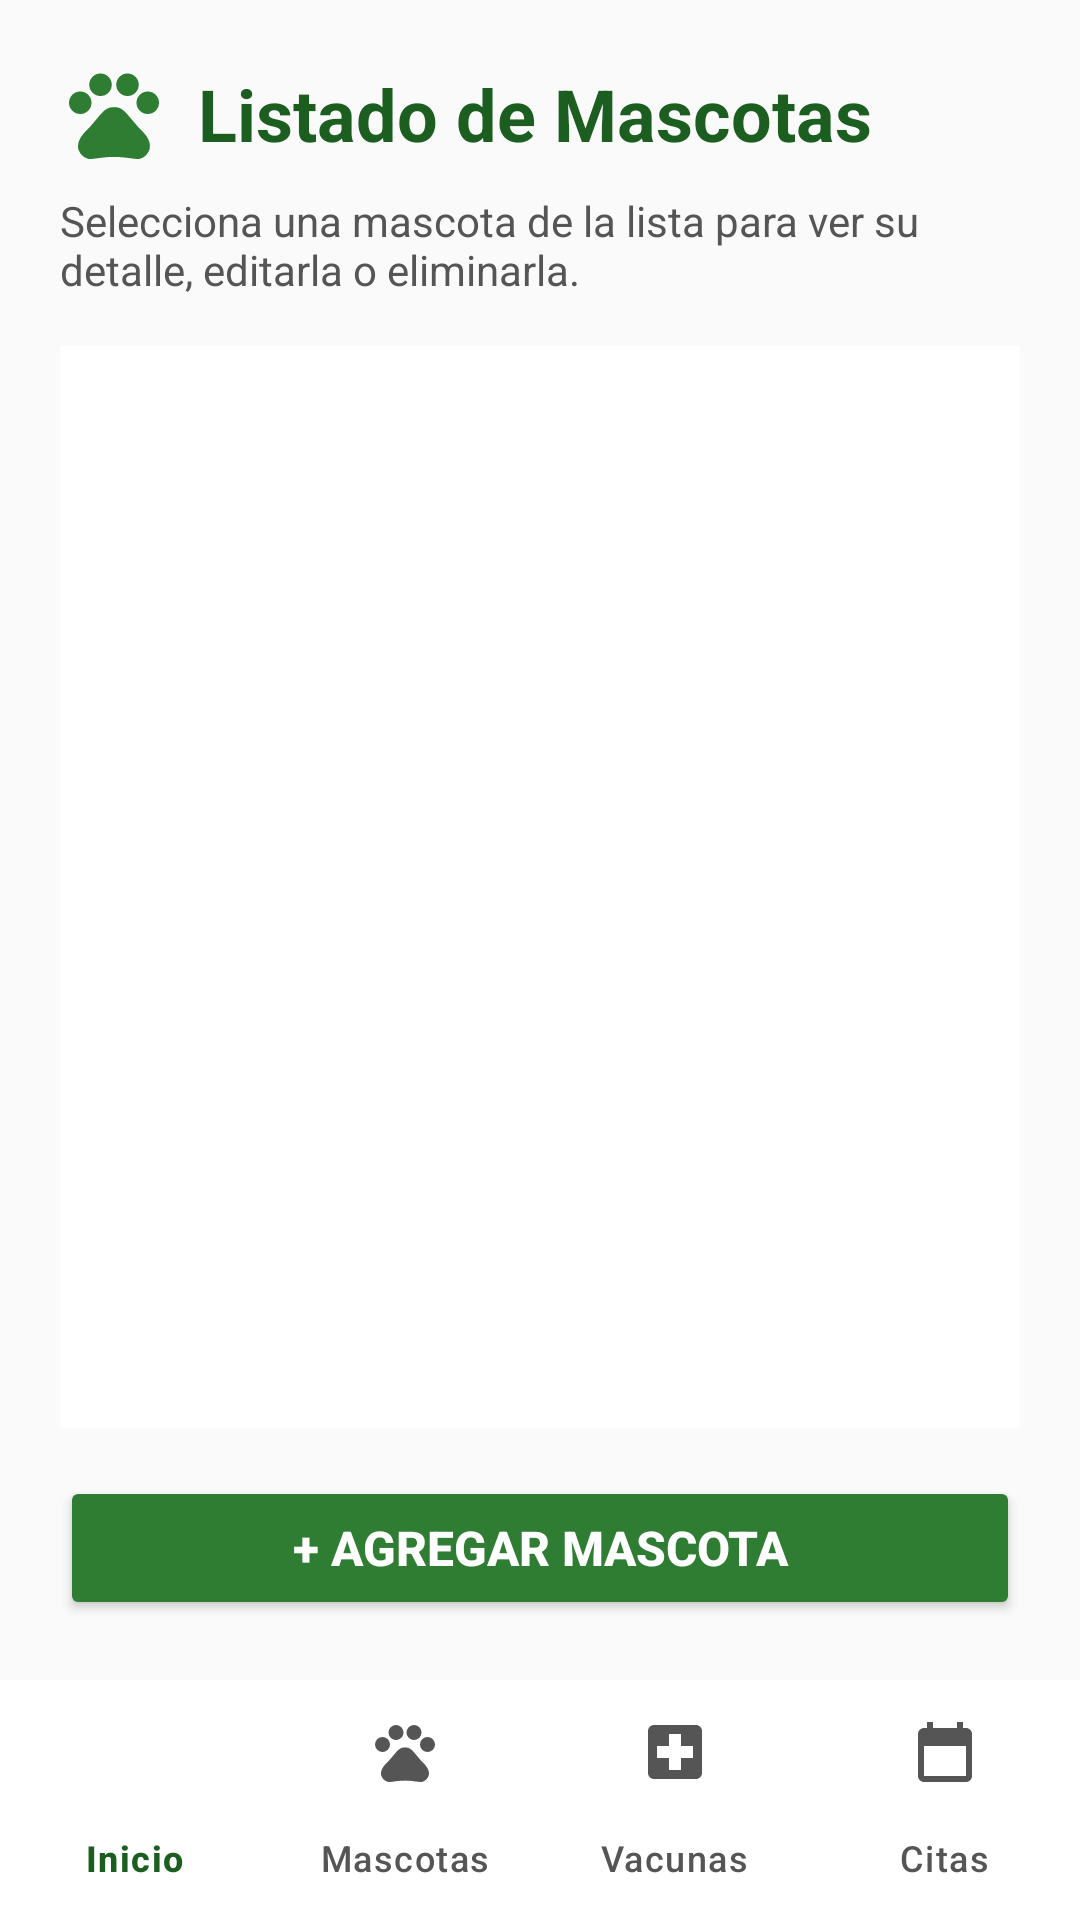

Icon bounding boxes for this 1080 × 1920 phone screenshot, format (x1, y1, x2, y2):
Icono Mascotas: (69, 73, 159, 159)
